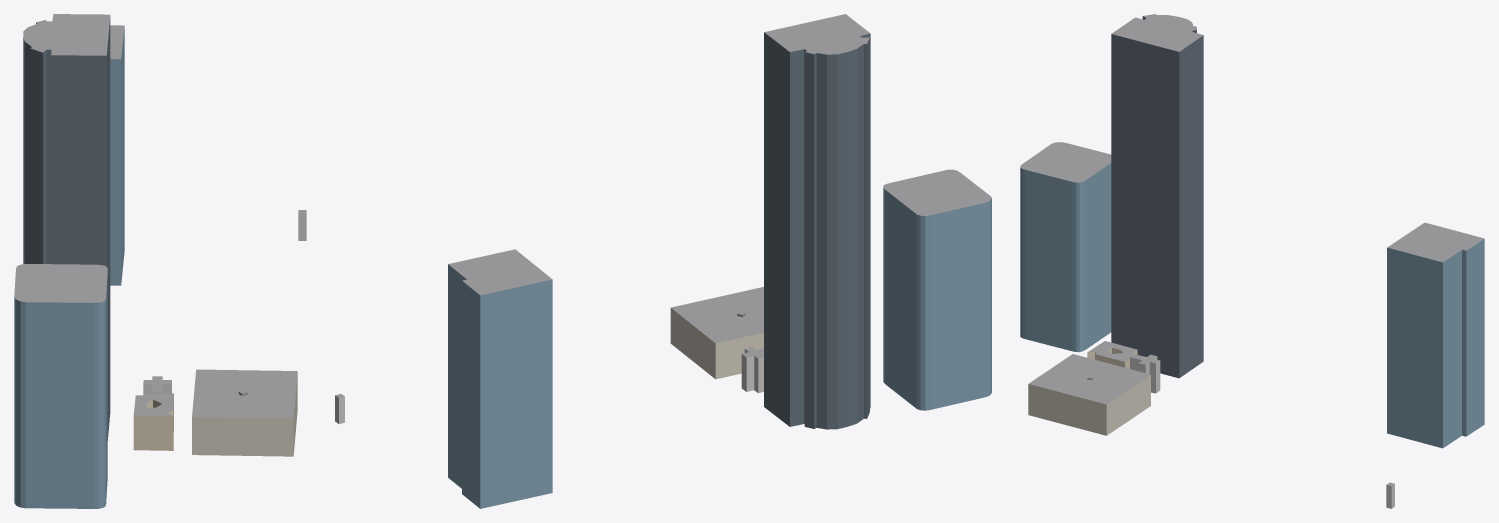
File: building_0_-7.glb
The picture shows the model from 3 angles, left to right: view 1: azimuth 30°, elevation 25°; view 2: azimuth 150°, elevation 25°; view 3: azimuth 270°, elevation 25°; orthographic projection. The views are drawn at different scales.
Parts seen in each view (by area): view 1: glass_blue, glass_dark, roof, concrete_warm, sandstone, concrete_light; view 2: glass_blue, glass_dark, roof, concrete_warm, concrete_light; view 3: glass_blue, glass_dark, roof, concrete_warm, concrete_light.
Boxes of the visible parts, x1=… form: glass_blue: x1=14, y1=26, x2=124, y2=508; glass_dark: x1=23, y1=17, x2=110, y2=440; roof: x1=14, y1=14, x2=306, y2=418; concrete_warm: x1=192, y1=374, x2=297, y2=456; sandstone: x1=133, y1=397, x2=173, y2=450; concrete_light: x1=143, y1=213, x2=306, y2=395; glass_blue: x1=448, y1=188, x2=991, y2=508; glass_dark: x1=764, y1=32, x2=870, y2=429; roof: x1=335, y1=14, x2=991, y2=397; concrete_warm: x1=670, y1=308, x2=763, y2=379; concrete_light: x1=335, y1=349, x2=763, y2=423; glass_blue: x1=1020, y1=163, x2=1484, y2=448; glass_dark: x1=1111, y1=16, x2=1203, y2=378; roof: x1=1020, y1=14, x2=1484, y2=485; concrete_warm: x1=1028, y1=375, x2=1150, y2=435; concrete_light: x1=1130, y1=356, x2=1394, y2=508.
Size of the model in its own units: 205 by 158 by 204.
